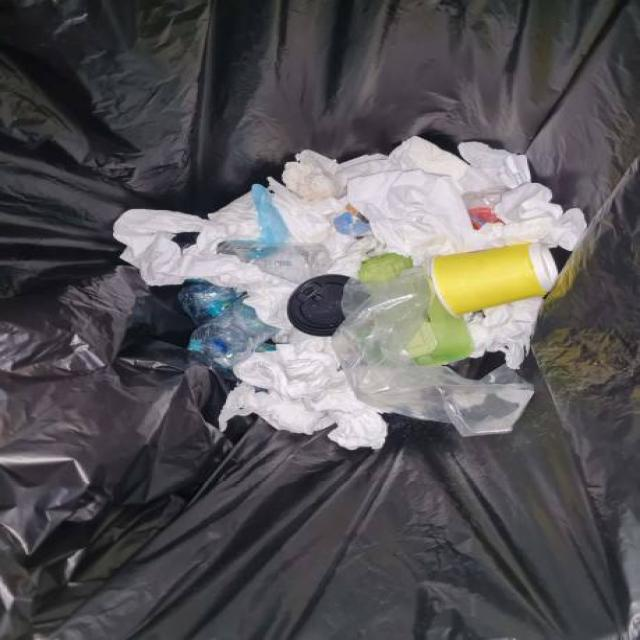plastic: (200, 192, 528, 407)
